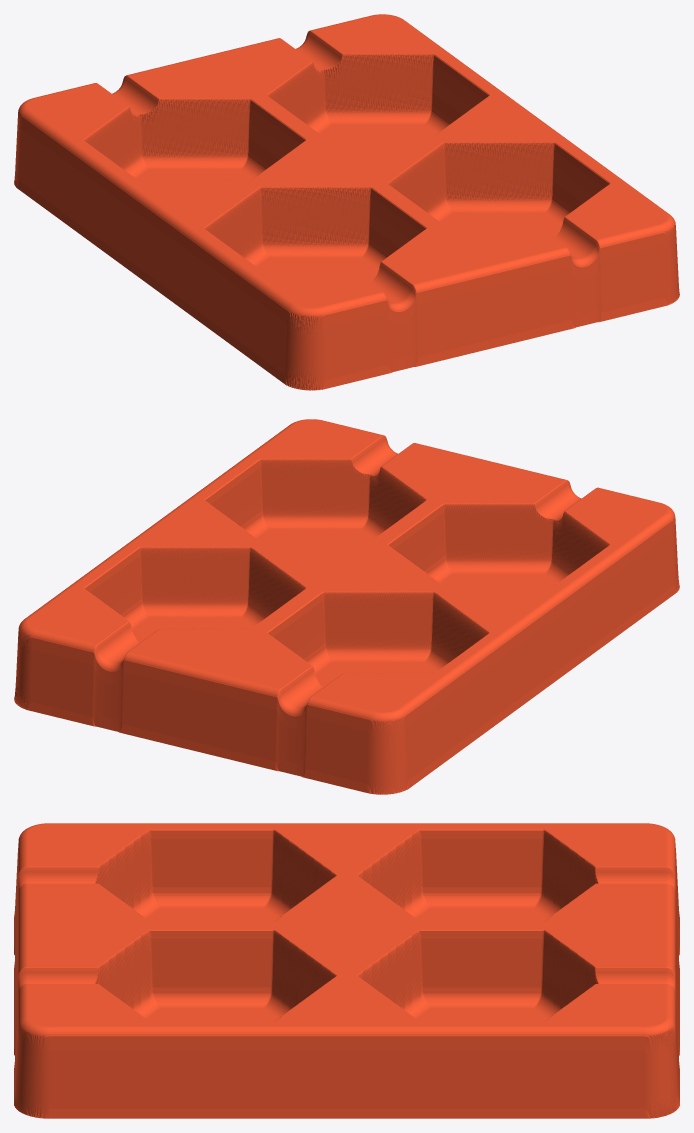
The model's file is mold.glb.
3 renders of one model, top to bottom at view 1: azimuth 30°, elevation 25°; view 2: azimuth 150°, elevation 25°; view 3: azimuth 270°, elevation 25°, orthographic. The views are drawn at different scales.
Visible parts, largest first — view 1: geometry_0; view 2: geometry_0; view 3: geometry_0.
Part boxes in pixels (<box>): geometry_0: <box>14,14,679,390</box>; geometry_0: <box>14,419,679,794</box>; geometry_0: <box>14,823,679,1118</box>.
Size of the model in its own units: 0.1301 by 0.0245 by 0.171.
